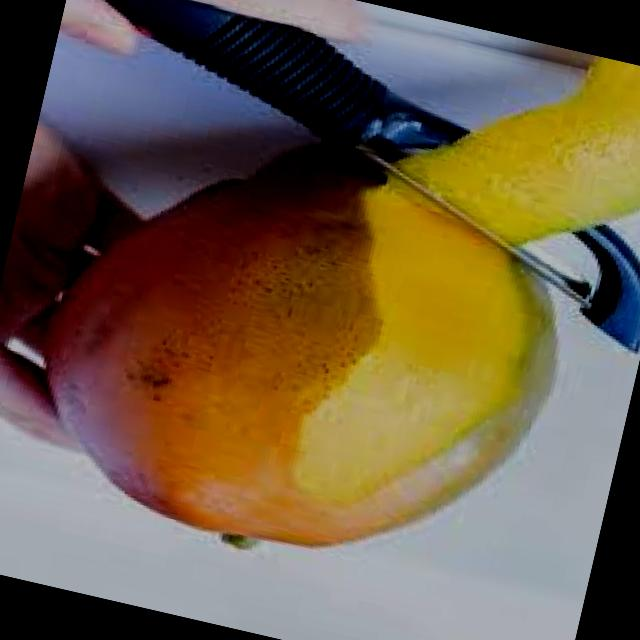Mango: (28, 97, 606, 613)
